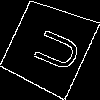U: (23, 22, 84, 75)
